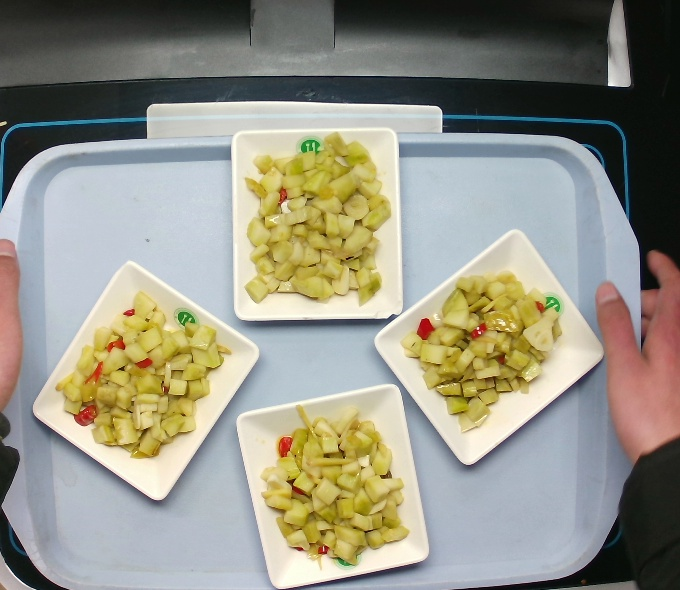wcq-YanHuaCaiGeng: (48, 289, 235, 467), (234, 124, 400, 313), (397, 267, 574, 437), (258, 398, 416, 578)
